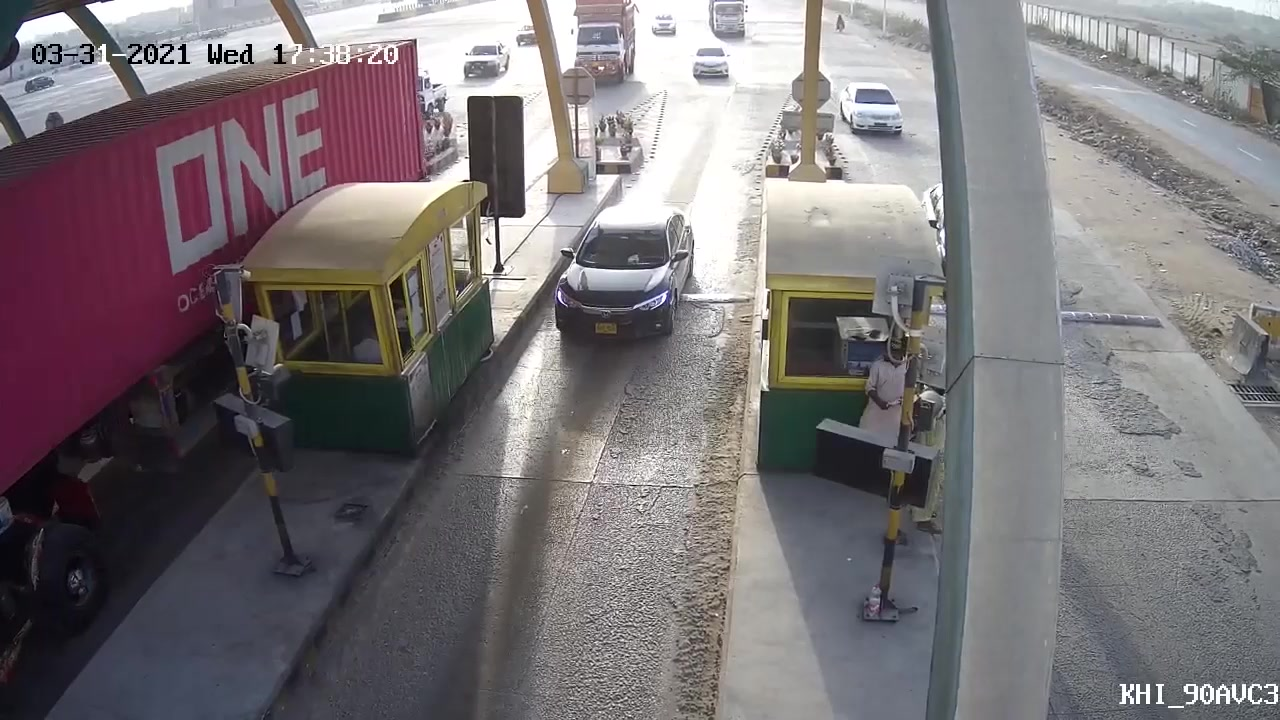F1: (550, 196, 700, 340)
